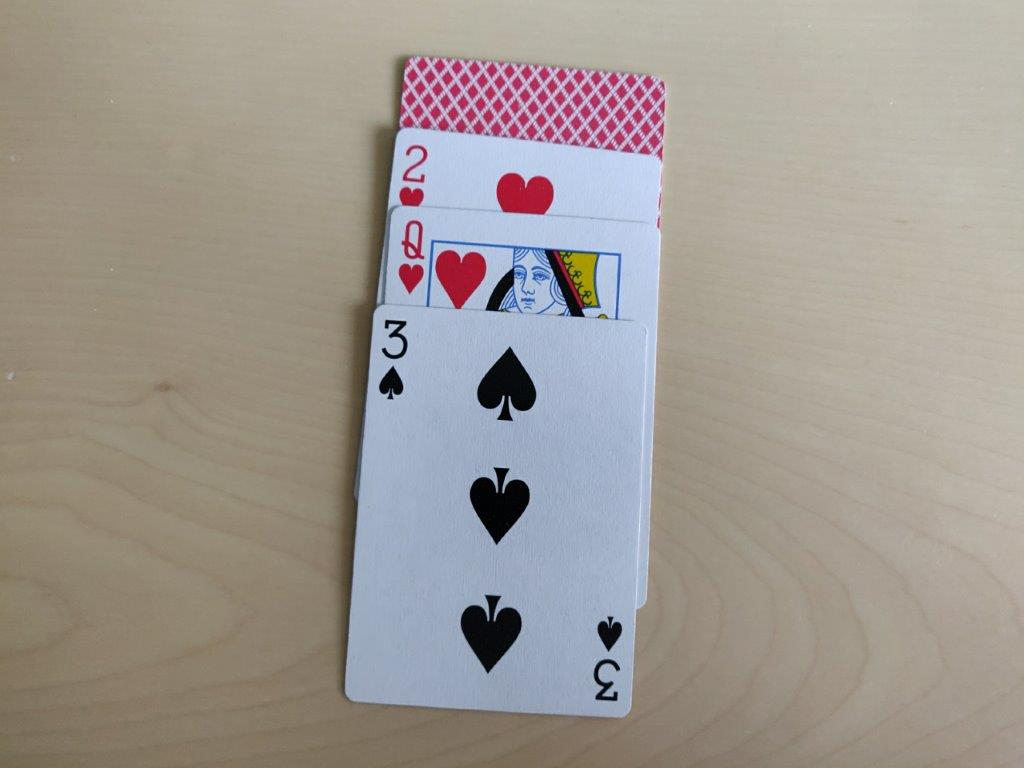2H: (396, 142, 429, 211)
3S: (378, 317, 412, 406)
BACK: (405, 53, 664, 149)
QH: (398, 216, 431, 295)
